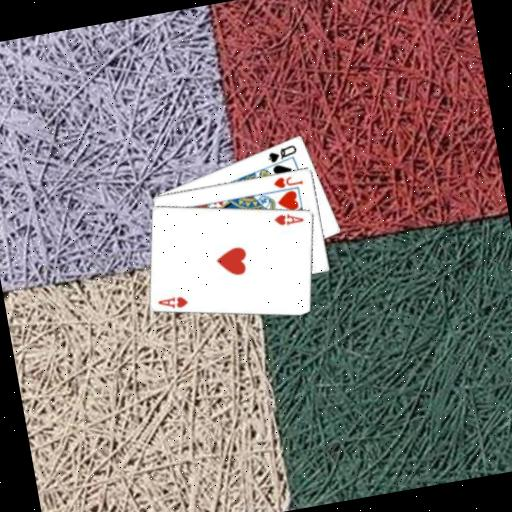AH: (270, 207, 306, 229), (154, 291, 190, 313)
JH: (270, 170, 305, 190)
QS: (263, 140, 300, 164)
